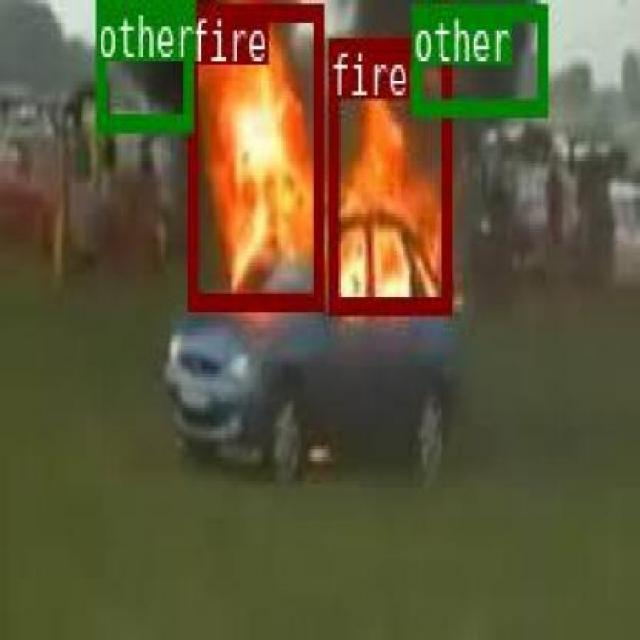Fire: (187, 3, 321, 308), (328, 35, 450, 312)
